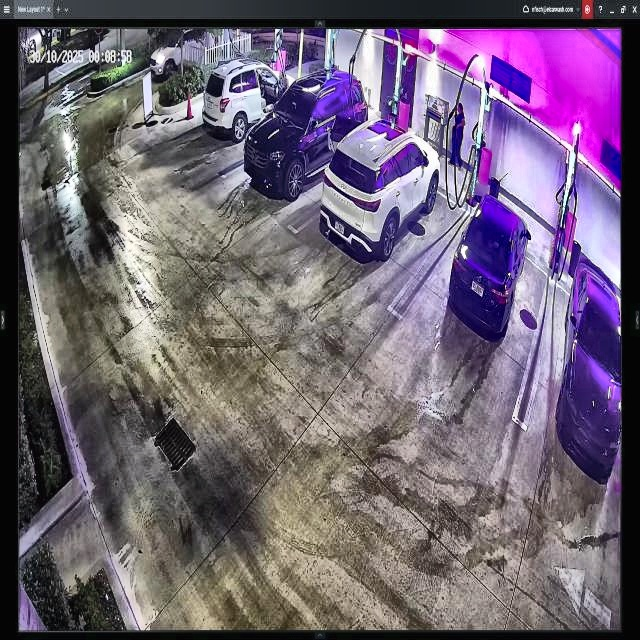Car: (321, 118, 440, 258), (246, 71, 367, 194), (448, 196, 530, 334)
